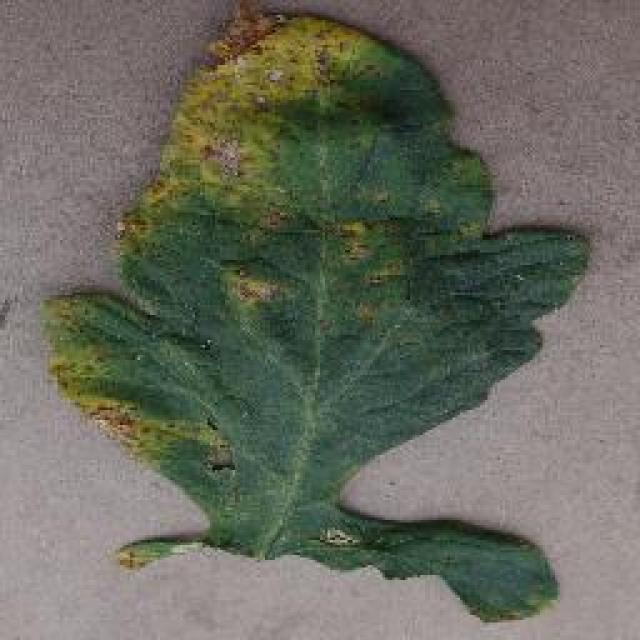Tomato bacterial spot leaf: (52, 15, 580, 623)
